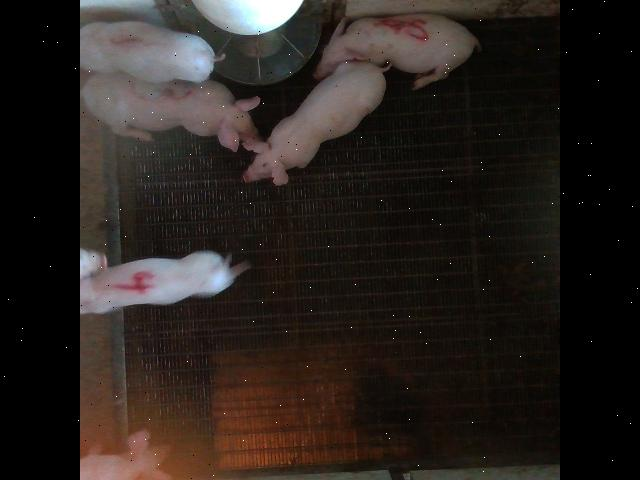pig-1: (81, 20, 222, 81)
pig-3: (82, 72, 261, 149)
pig-4: (81, 250, 249, 312)
pig-5: (314, 14, 480, 89)
